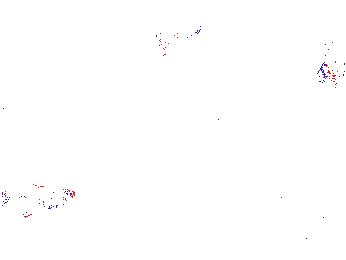X-ray fish: (314, 59, 346, 87)
redtail glassfish: (1, 185, 76, 208), (155, 22, 204, 53)
